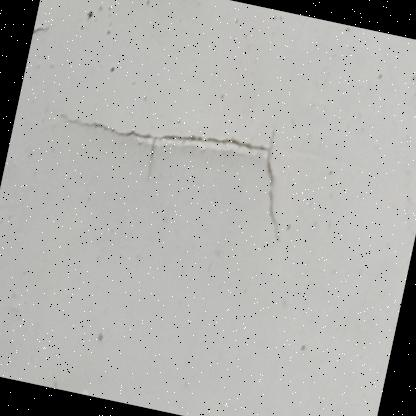Crack: (20, 67, 312, 267), (26, 6, 59, 73)
